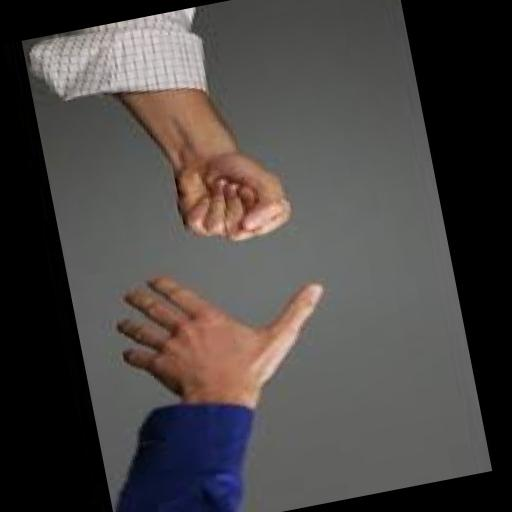Fist: (134, 108, 367, 282)
Open_Palm: (115, 247, 384, 443)
